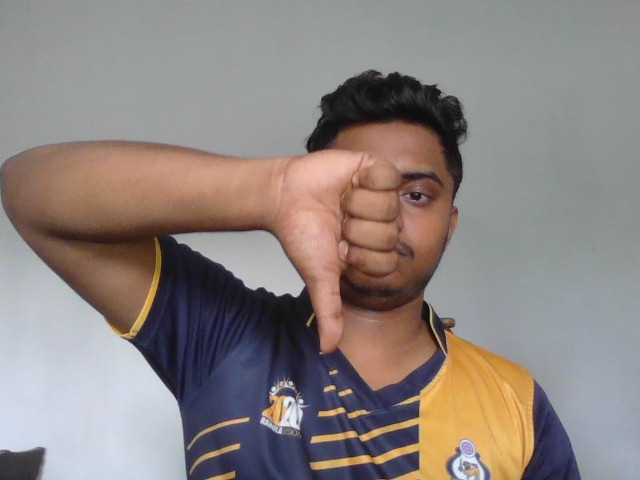Disagree: (276, 148, 403, 355)
